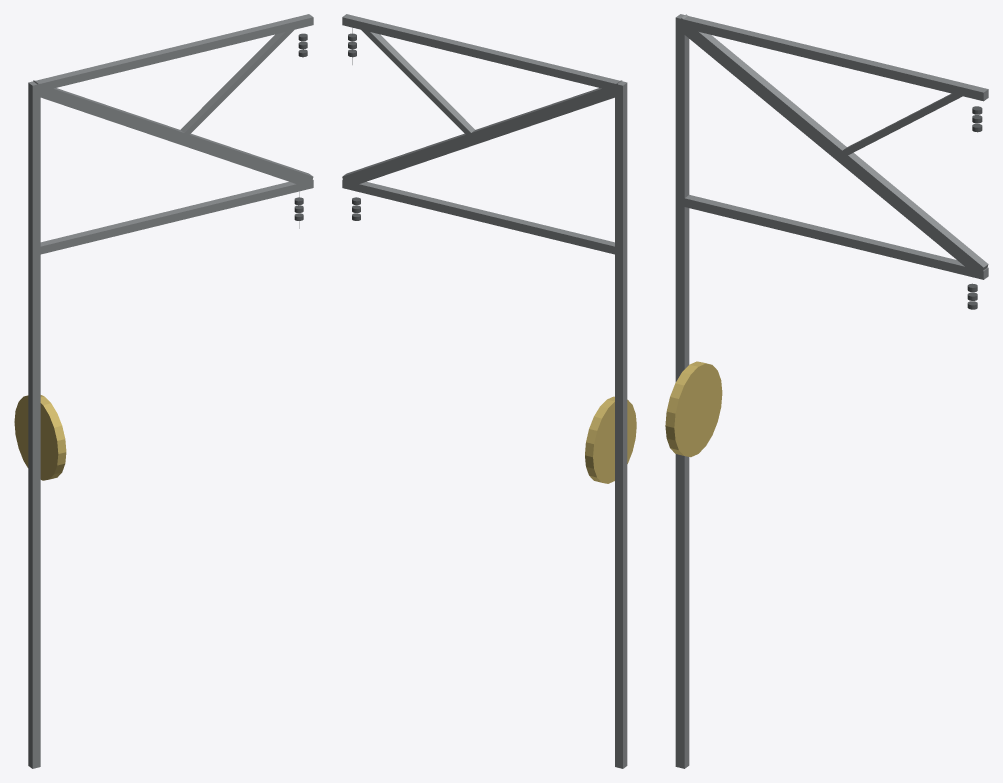
The model's file is electricity_r.glb.
The picture shows the model from 3 angles, left to right: view 1: azimuth 30°, elevation 25°; view 2: azimuth 150°, elevation 25°; view 3: azimuth 330°, elevation 25°; orthographic projection. The views are drawn at different scales.
Parts seen in each view (by area): view 1: Mesh_Mesh_head_geo.001_lambert2SG.001; view 2: Mesh_Mesh_head_geo.001_lambert2SG.001; view 3: Mesh_Mesh_head_geo.001_lambert2SG.001.
Boxes of the visible parts, <box> form: Mesh_Mesh_head_geo.001_lambert2SG.001: <box>14,14,313,768</box>; Mesh_Mesh_head_geo.001_lambert2SG.001: <box>342,14,636,768</box>; Mesh_Mesh_head_geo.001_lambert2SG.001: <box>665,14,988,768</box>.
Bounding box in the file's own units: 74 × 172 × 20.
